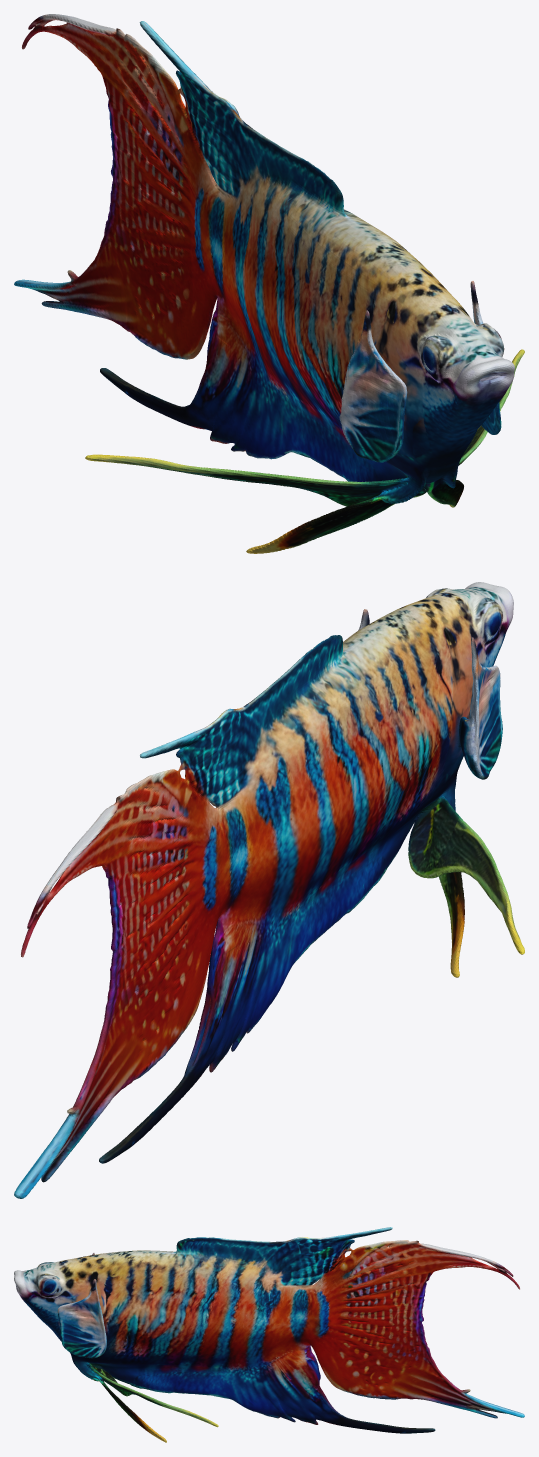
The model's file is bettafish-3d1.glb.
3 views of the same model, one above another, from view 1: azimuth 30°, elevation 25°; view 2: azimuth 150°, elevation 25°; view 3: azimuth 270°, elevation 25° (orthographic). The views are drawn at different scales.
Visible parts, largest first — view 1: tripo_node_4abd760e-2eec-4ae1-a82f-5ff61039e87c; view 2: tripo_node_4abd760e-2eec-4ae1-a82f-5ff61039e87c; view 3: tripo_node_4abd760e-2eec-4ae1-a82f-5ff61039e87c.
Part boxes in pixels (bbox=[...]): tripo_node_4abd760e-2eec-4ae1-a82f-5ff61039e87c: bbox=[14, 14, 524, 553]; tripo_node_4abd760e-2eec-4ae1-a82f-5ff61039e87c: bbox=[14, 582, 524, 1198]; tripo_node_4abd760e-2eec-4ae1-a82f-5ff61039e87c: bbox=[14, 1227, 524, 1442].
Size of the model in its own units: 0.5322 by 0.4451 by 1.
Materials: 1 (1 with a texture image).
